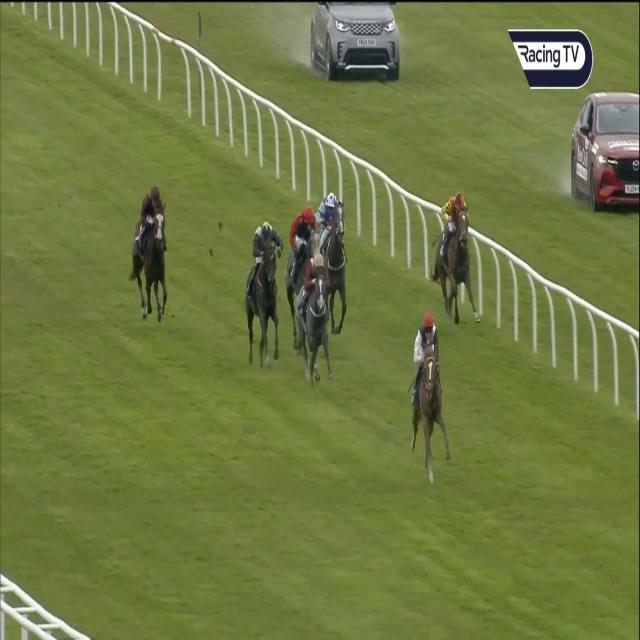horses-racing: (403, 310, 455, 474), (434, 188, 485, 320), (319, 189, 362, 336), (240, 214, 282, 360), (130, 188, 175, 318), (295, 252, 331, 381), (284, 198, 318, 292)
